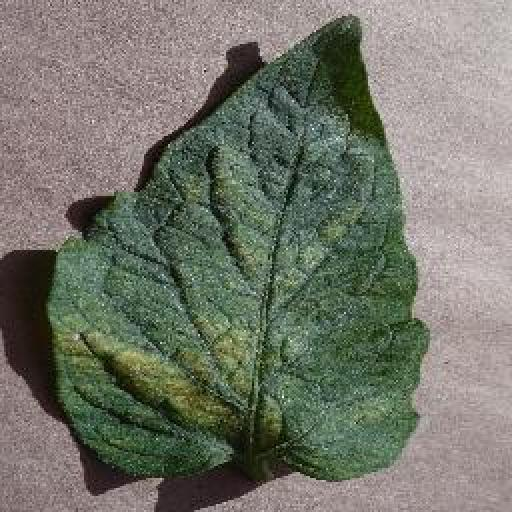disease_tomato: (47, 12, 433, 482)
